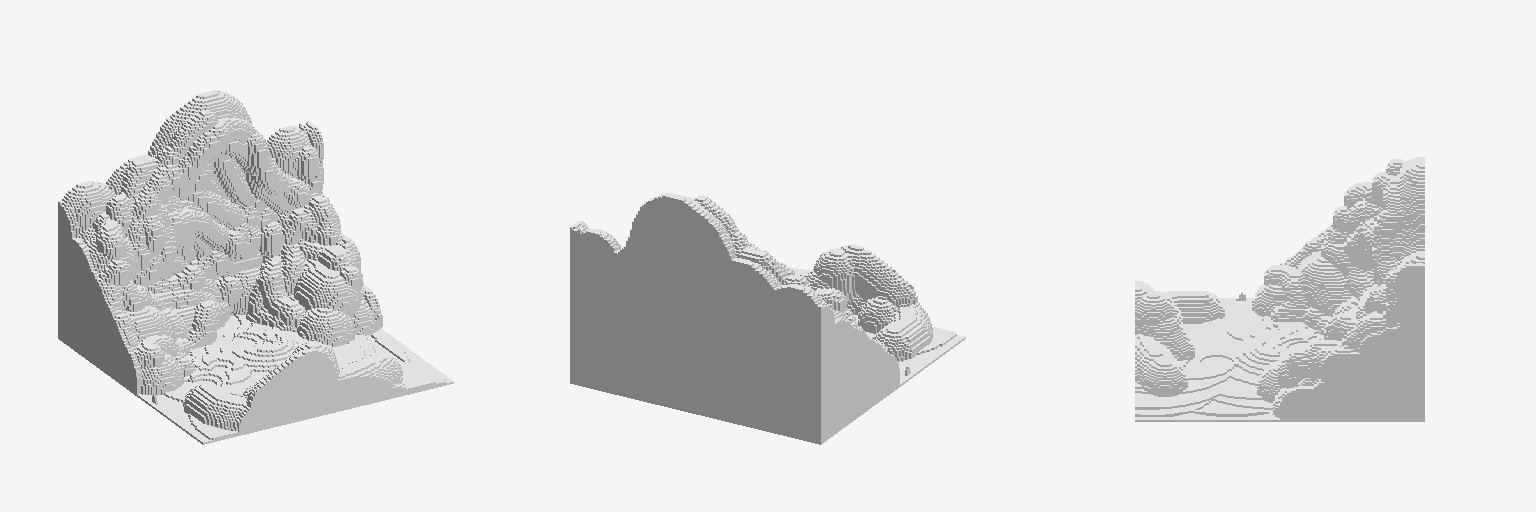
File: Ext_LunarBorder13.obj
The picture shows the model from 3 angles: view 1: azimuth 30°, elevation 25°; view 2: azimuth 150°, elevation 25°; view 3: azimuth 270°, elevation 25°; orthographic projection.
Size of the model in its own units: 126 by 101 by 126.